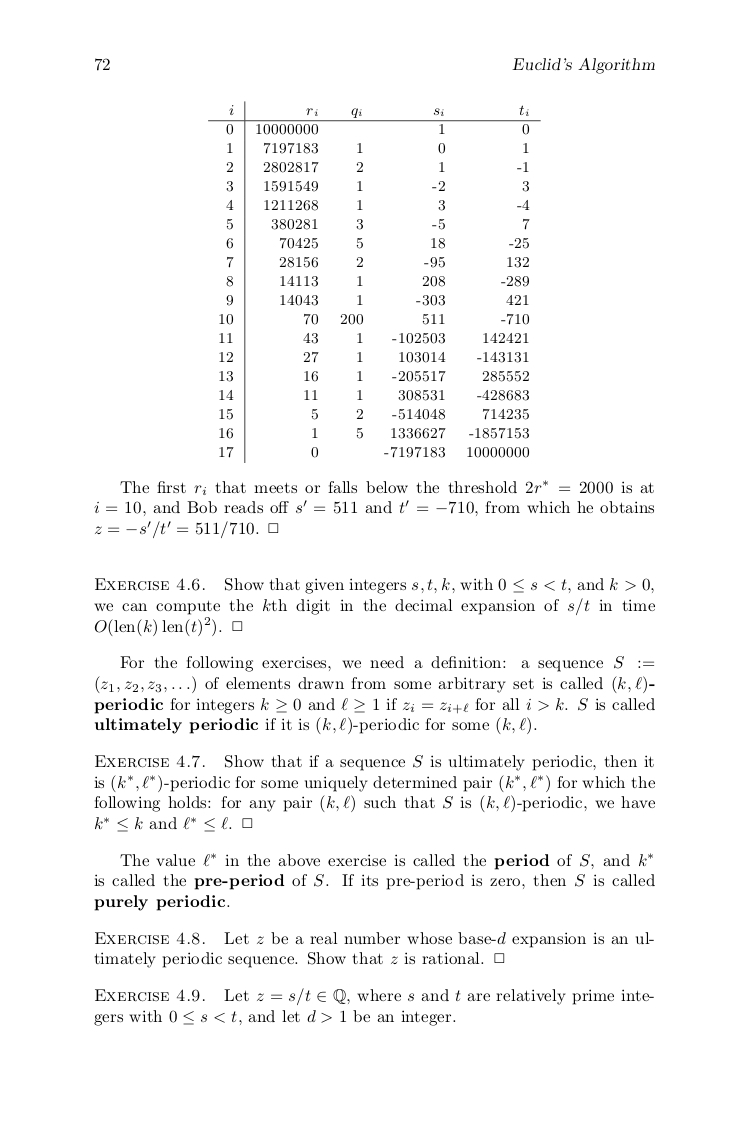Table: (208, 100, 540, 463)
formula: (94, 520, 278, 539)
